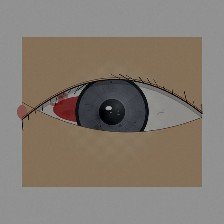hemorrhage_spot: (40, 70, 138, 149)
